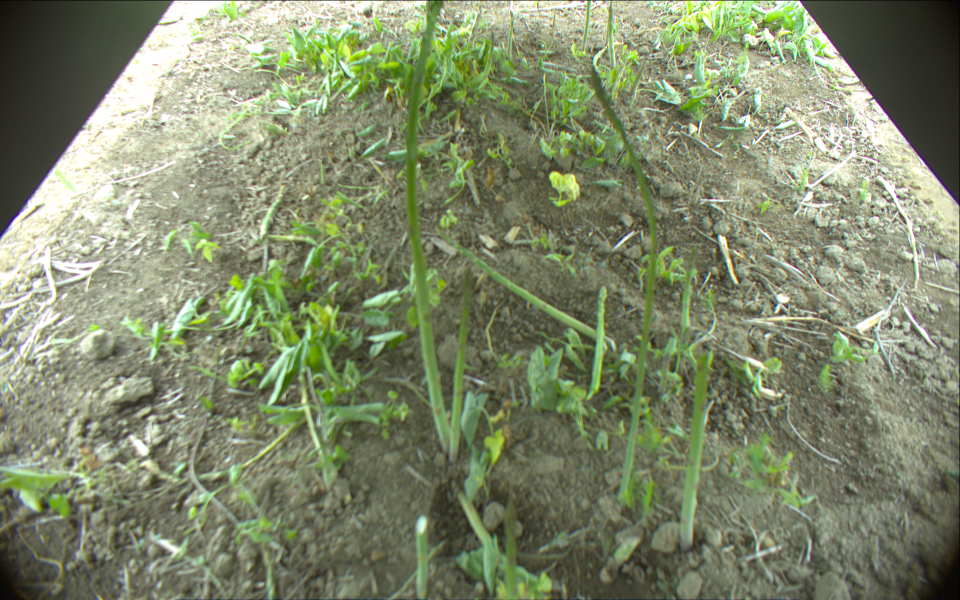aspa: (589, 68, 657, 501), (426, 219, 615, 351), (404, 1, 450, 450), (678, 349, 710, 554), (876, 175, 920, 292), (450, 267, 472, 463), (591, 285, 607, 398), (501, 498, 518, 600), (258, 184, 288, 237), (682, 245, 699, 336), (413, 514, 428, 600), (606, 5, 618, 69), (581, 1, 591, 52), (505, 11, 514, 61)
